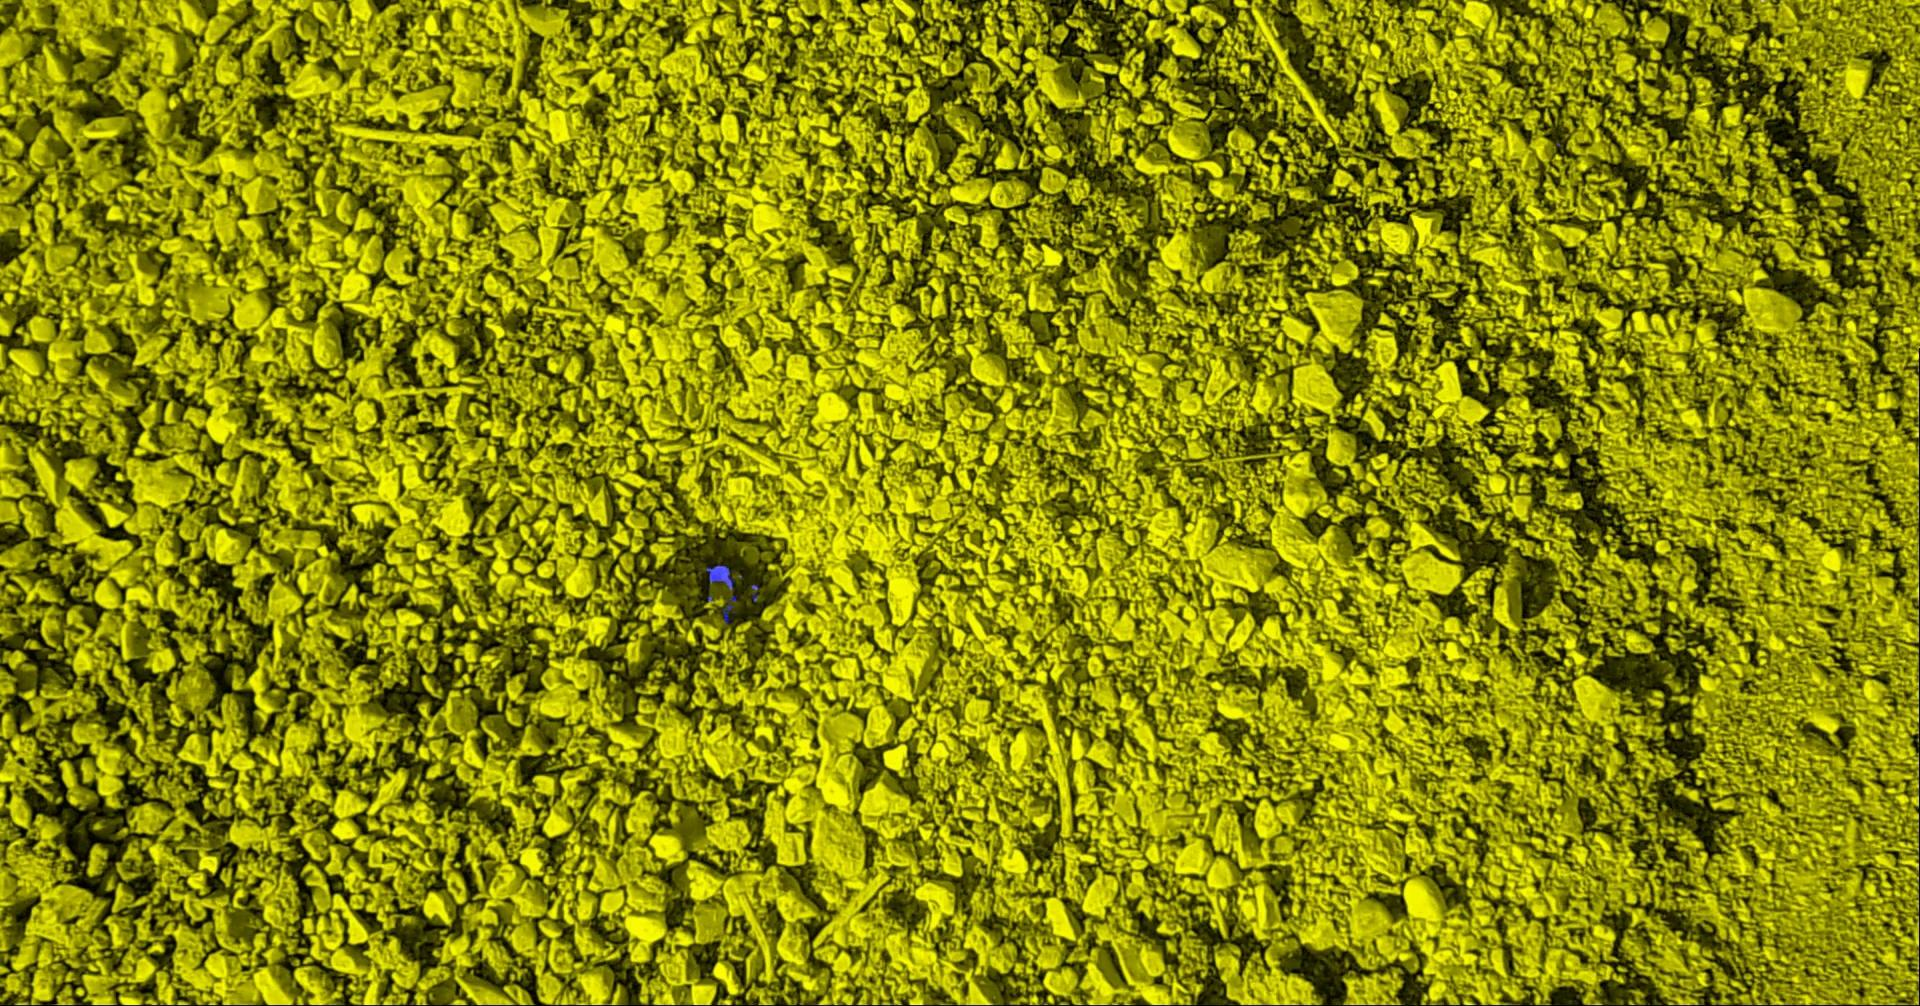ant: (705, 564, 734, 589), (721, 594, 737, 622)
